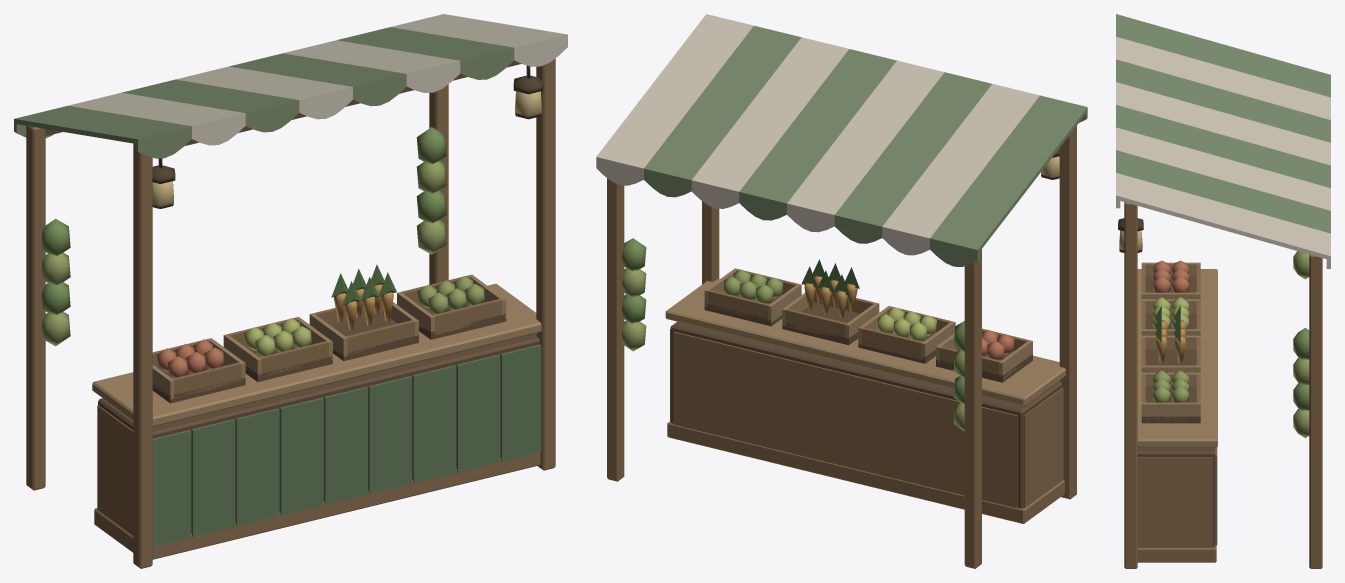
File: stall_keeper.glb
3 renders of one model, left to right at view 1: azimuth 30°, elevation 25°; view 2: azimuth 150°, elevation 25°; view 3: azimuth 270°, elevation 25°, orthographic. The views are drawn at different scales.
Parts seen in each view (by area): view 1: stall_keeper; view 2: stall_keeper; view 3: stall_keeper.
Part boxes in pixels (bbox=[...]): stall_keeper: bbox=[14, 14, 567, 568]; stall_keeper: bbox=[596, 14, 1087, 568]; stall_keeper: bbox=[1116, 14, 1330, 568].
Bounding box in the file's own units: 3.2 × 3.1 × 1.6.
